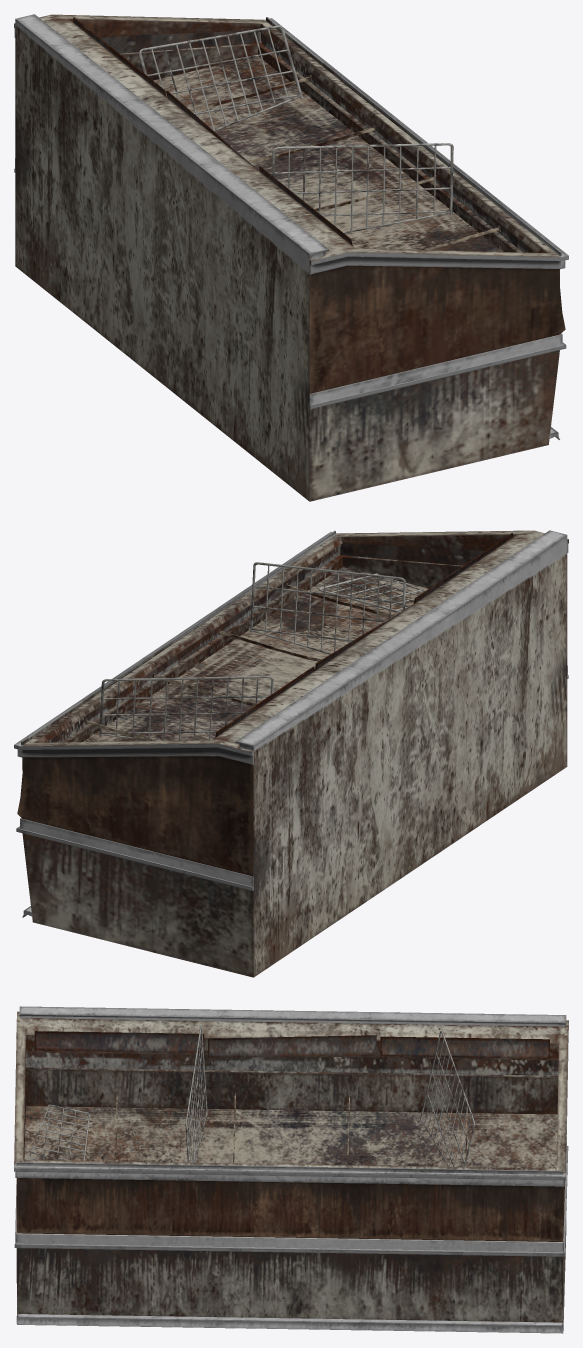
Rendered from nevera.glb.
3 renders of one model, top to bottom at view 1: azimuth 30°, elevation 25°; view 2: azimuth 150°, elevation 25°; view 3: azimuth 270°, elevation 25°, orthographic. The views are drawn at different scales.
Parts seen in each view (by area): view 1: Fridge__0; view 2: Fridge__0; view 3: Fridge__0.
Boxes of the visible parts, x1,y1,x2,y2 form: Fridge__0: (14, 14, 568, 501); Fridge__0: (14, 530, 568, 977); Fridge__0: (14, 1006, 568, 1333).
Size of the model in its own units: 1 by 0.9 by 2.
Materials: 1 (1 with a texture image).
